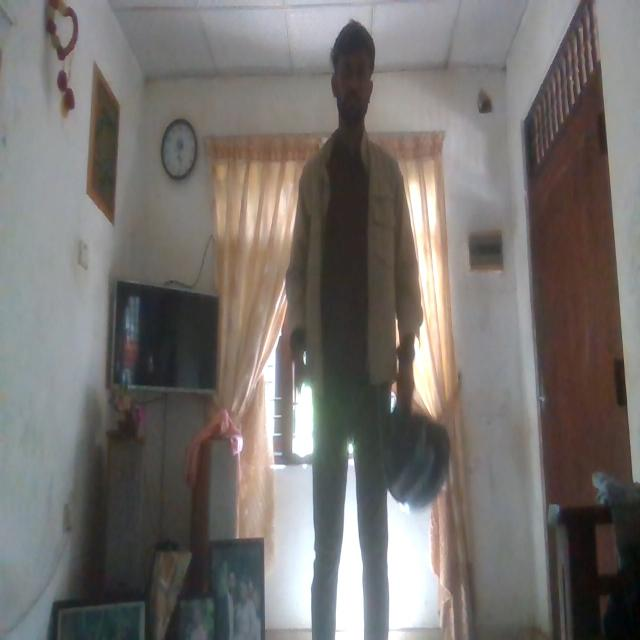Jacket_Wearer: (288, 127, 422, 394)
Person: (286, 21, 424, 640)
